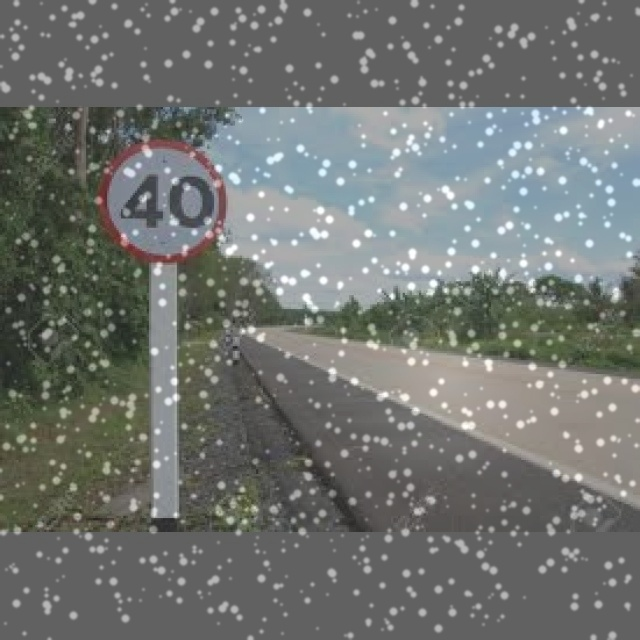Speed_Limit_40: (103, 133, 226, 262)
